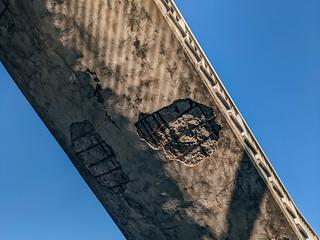Exposed reinforcement: (161, 115, 215, 146), (175, 132, 213, 160), (135, 103, 177, 125), (197, 103, 220, 138), (76, 139, 106, 156), (162, 129, 179, 157), (140, 121, 158, 146), (144, 118, 161, 143), (87, 154, 114, 168), (169, 129, 184, 152), (93, 166, 121, 178), (70, 129, 95, 142), (176, 105, 197, 119), (135, 124, 149, 144), (157, 111, 170, 130), (107, 180, 131, 190), (151, 113, 161, 131), (174, 104, 181, 114), (187, 98, 194, 107)
Spalling: (133, 97, 223, 166), (69, 119, 130, 195)
